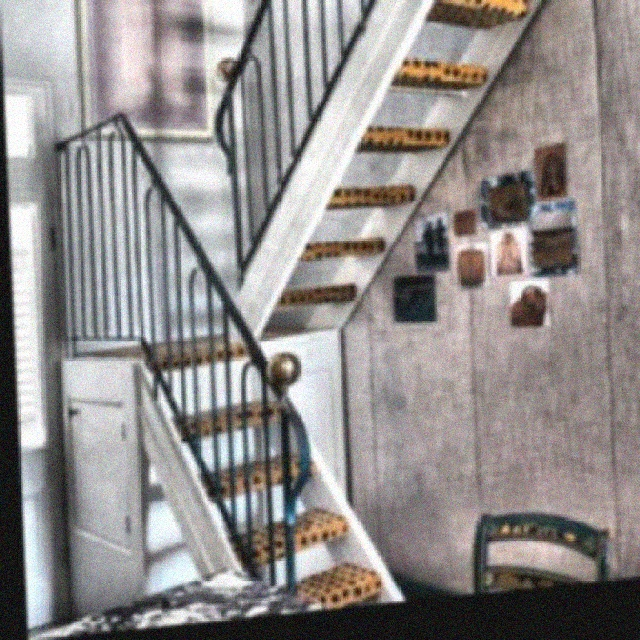stair: (121, 297, 384, 618)
